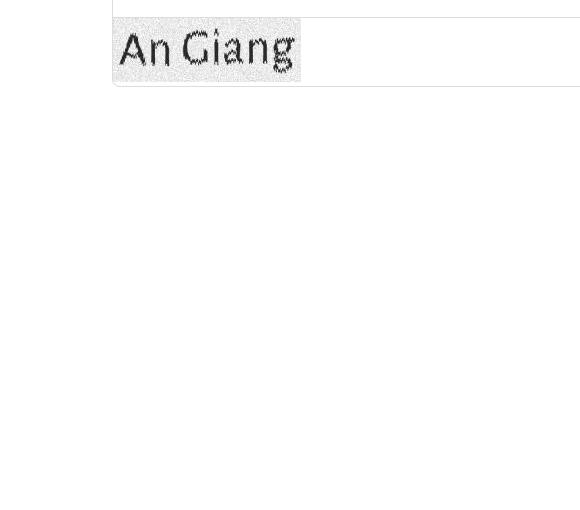text: (119, 26, 299, 78)
